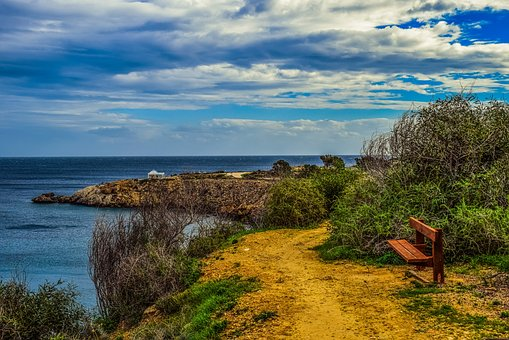sea: (5, 156, 321, 292)
sky: (5, 3, 499, 158)
